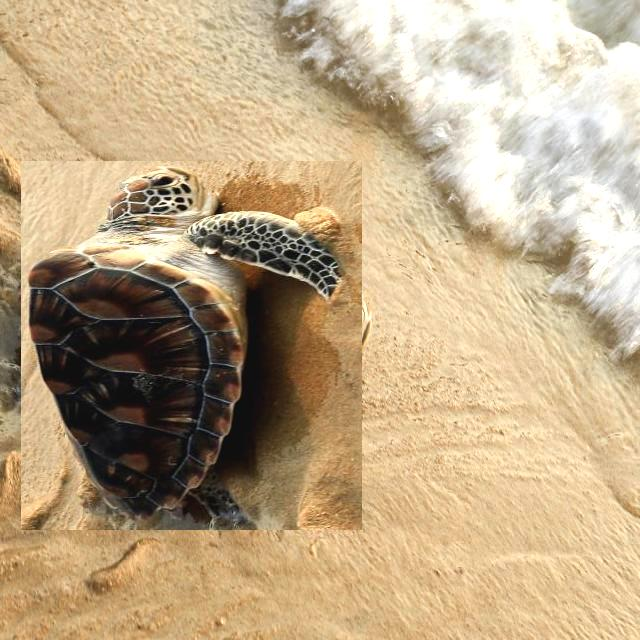Sea turtle: (14, 168, 370, 523)
